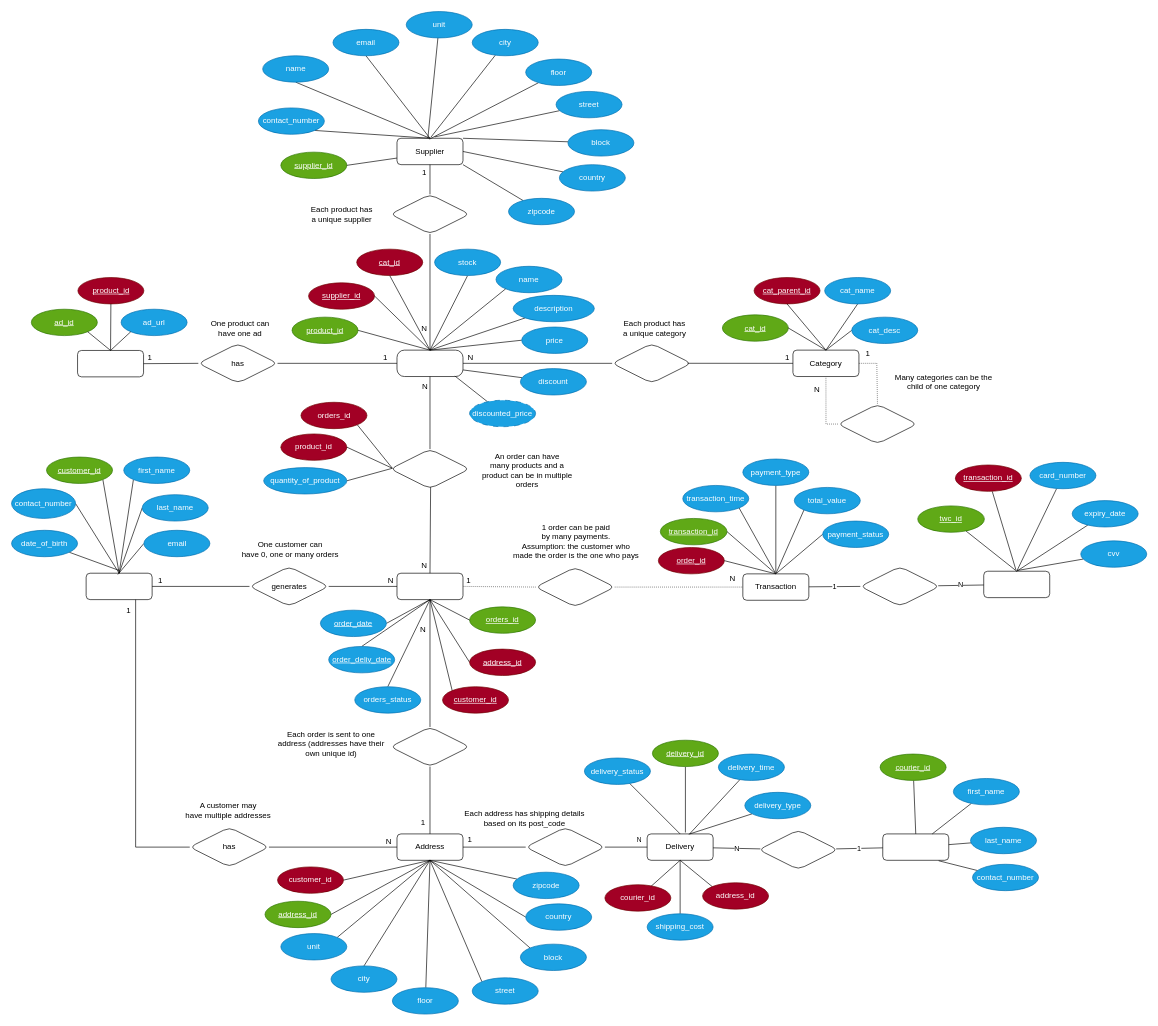
This 1158x1026 diagram has some shape labels left out. The centre of each missing label's shape, as x and y in pixels:
Ad: the point at 110,363
belongs to: the point at 651,363
Courier: the point at 915,846
Customer: the point at 118,586
has shipping details: the point at 565,847
is child of: the point at 877,424
is paid by: the point at 575,587
is sent to: the point at 430,746
is shipped by: the point at 798,849
Order Details: the point at 430,468
Orders: the point at 429,586
Product: the point at 429,363
supplied by: the point at 430,214
Transaction with card: the point at 1016,584
uses: the point at 900,586
